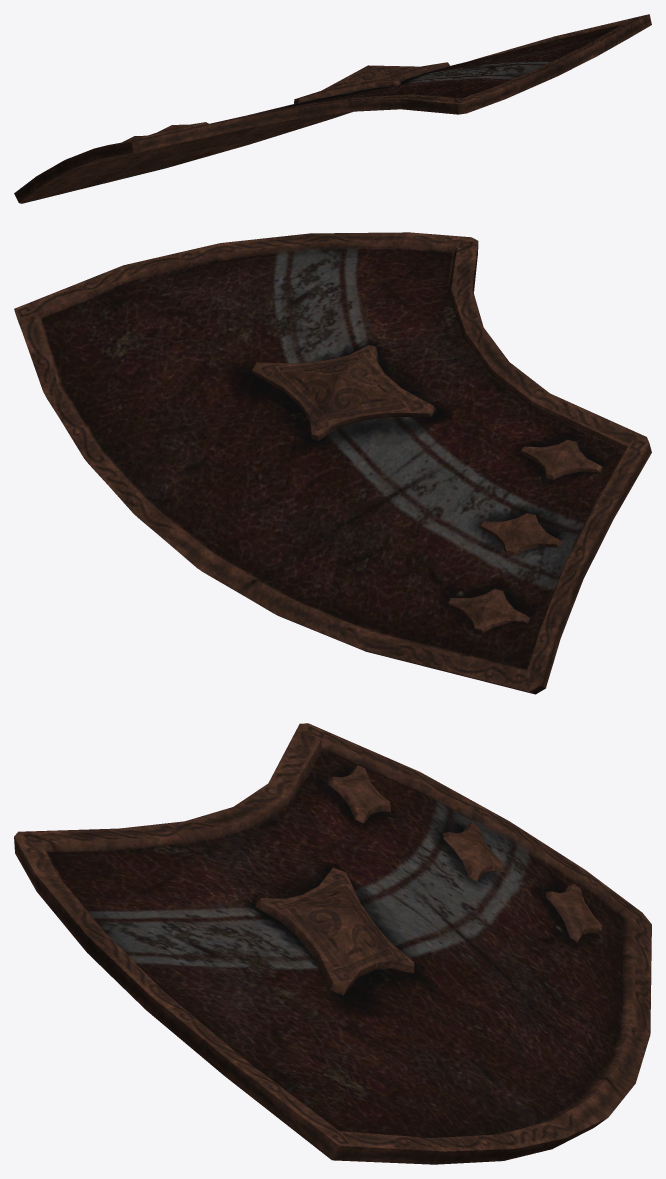
File: tarcza13.glb
3 views of the same model, one above another, from view 1: azimuth 30°, elevation 25°; view 2: azimuth 150°, elevation 25°; view 3: azimuth 270°, elevation 25° (orthographic). The views are drawn at different scales.
Parts seen in each view (by area): view 1: zengin; view 2: zengin; view 3: zengin.
Part boxes in pixels (<box>): zengin: <box>14,14,651,203</box>; zengin: <box>14,232,651,694</box>; zengin: <box>14,723,651,1164</box>.
Size of the model in its own units: 0.7907 by 0.2557 by 0.508.
Materials: 1 (1 with a texture image).
